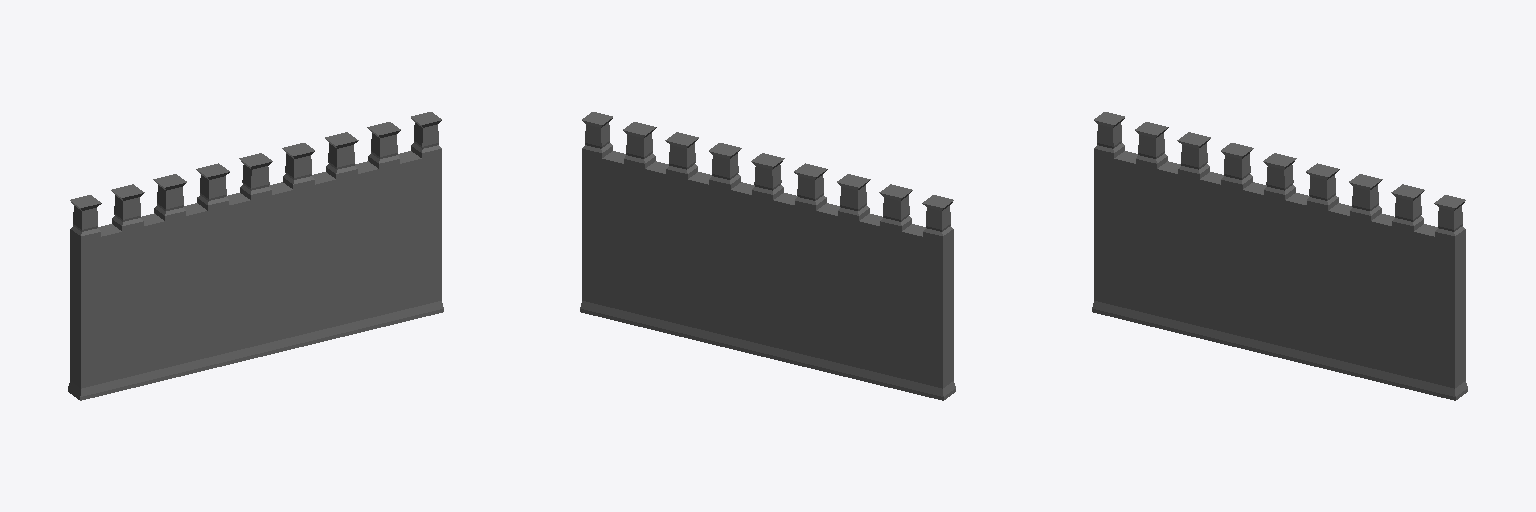
File: CastleWallOBJ.obj
3 renders of one model, left to right at view 1: azimuth 30°, elevation 25°; view 2: azimuth 150°, elevation 25°; view 3: azimuth 330°, elevation 25°, orthographic.
Visible parts, largest first — view 1: Castle_Wall; view 2: Castle_Wall; view 3: Castle_Wall.
Boxes of the visible parts, x1,y1,x2,y2 form: Castle_Wall: [68, 112, 443, 400]; Castle_Wall: [580, 112, 955, 400]; Castle_Wall: [1092, 112, 1467, 400].
Size of the model in its own units: 100 by 50.46 by 5.93.